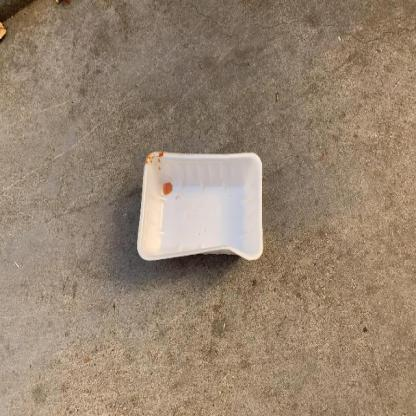Glass Cup: (136, 150, 264, 261), (137, 151, 263, 260)
